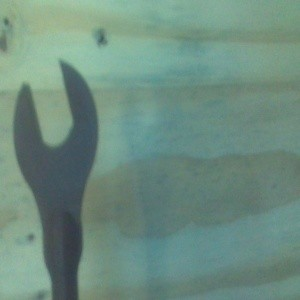spanner: (12, 58, 100, 300)
